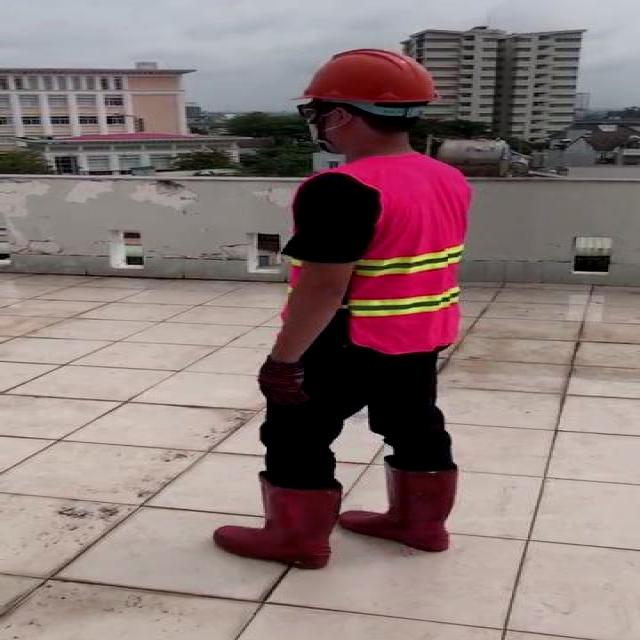boots: (212, 477, 342, 569), (342, 462, 461, 551)
hand_glove: (256, 362, 309, 407)
head_helmet: (198, 39, 481, 579), (299, 45, 448, 106)
vest: (284, 155, 470, 353)
